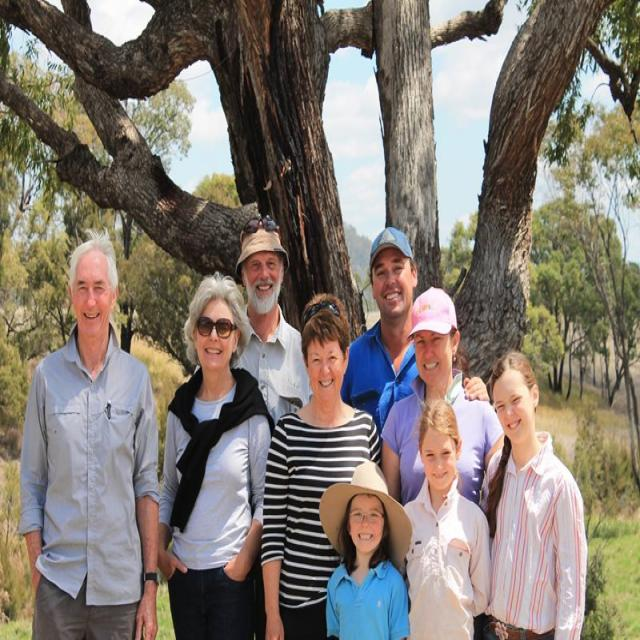body: (16, 226, 163, 639), (154, 268, 282, 639), (260, 292, 382, 639), (338, 223, 492, 441), (478, 350, 587, 640), (379, 283, 506, 514), (399, 394, 495, 640), (230, 214, 315, 427), (318, 460, 412, 640)
